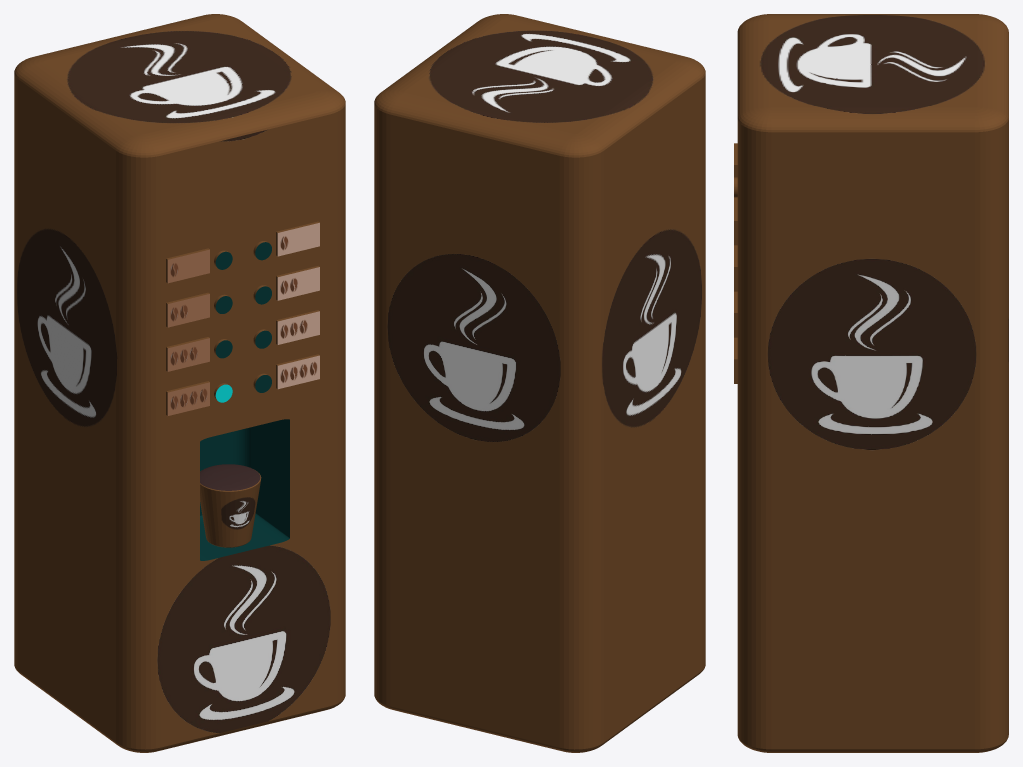
The model's file is coffeeMachine.glb.
The picture shows the model from 3 angles, left to right: view 1: azimuth 30°, elevation 25°; view 2: azimuth 150°, elevation 25°; view 3: azimuth 270°, elevation 25°; orthographic projection. The views are drawn at different scales.
Bounding box in the file's own units: 0.0799 × 0.208 × 0.081.
Materials: 13 (13 with a texture image).
